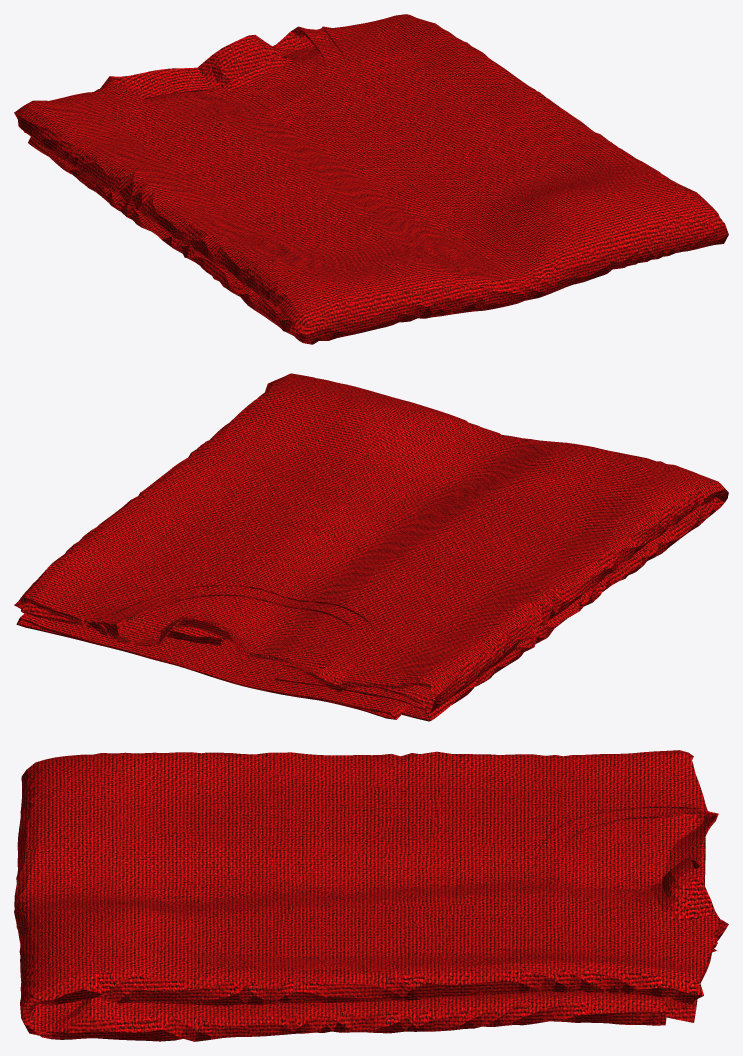
File: T_shirt_body_349.fbx
3 views of the same model, one above another, from view 1: azimuth 30°, elevation 25°; view 2: azimuth 150°, elevation 25°; view 3: azimuth 270°, elevation 25° (orthographic). The views are drawn at different scales.
Visible parts, largest first — view 1: T_shirt_body_349; view 2: T_shirt_body_349; view 3: T_shirt_body_349.
Part boxes in pixels (left/top/right/bottom): T_shirt_body_349: left=14, top=14, right=728, bottom=344; T_shirt_body_349: left=14, top=373, right=728, bottom=721; T_shirt_body_349: left=14, top=750, right=728, bottom=1041.
Size of the model in its own units: 10.23 by 1.33 by 12.33.
